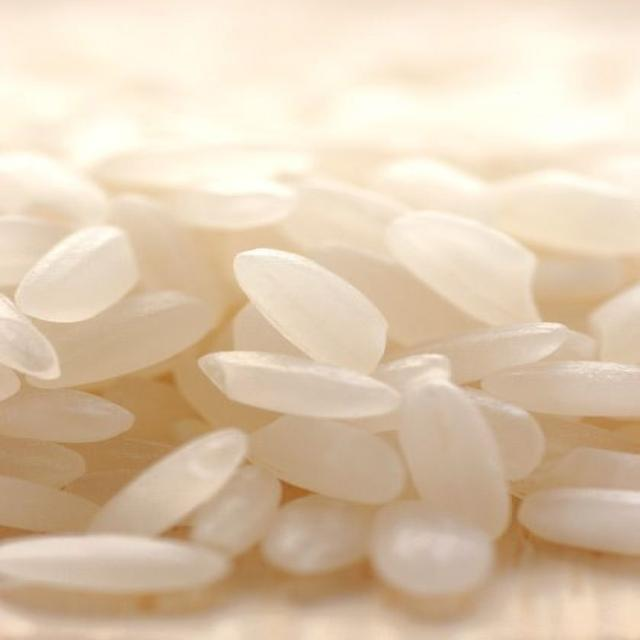rice: (0, 0, 639, 611), (234, 249, 387, 372), (400, 374, 510, 537), (32, 291, 213, 388), (313, 244, 479, 347), (388, 212, 539, 325), (89, 429, 246, 535), (249, 416, 405, 503), (0, 535, 230, 594), (199, 352, 400, 418), (14, 226, 138, 323), (496, 171, 639, 255), (371, 501, 493, 596), (284, 177, 406, 252), (421, 323, 568, 383), (261, 496, 371, 574), (484, 361, 639, 416), (189, 466, 281, 555), (519, 487, 639, 555), (0, 153, 109, 224), (369, 157, 489, 220), (465, 389, 545, 480), (0, 388, 134, 442), (164, 176, 295, 230), (101, 377, 195, 441), (0, 476, 97, 532), (0, 294, 60, 379), (0, 216, 68, 286), (0, 436, 86, 488), (541, 447, 639, 490), (69, 432, 172, 472), (590, 285, 639, 363), (232, 303, 304, 356), (0, 365, 21, 401)
